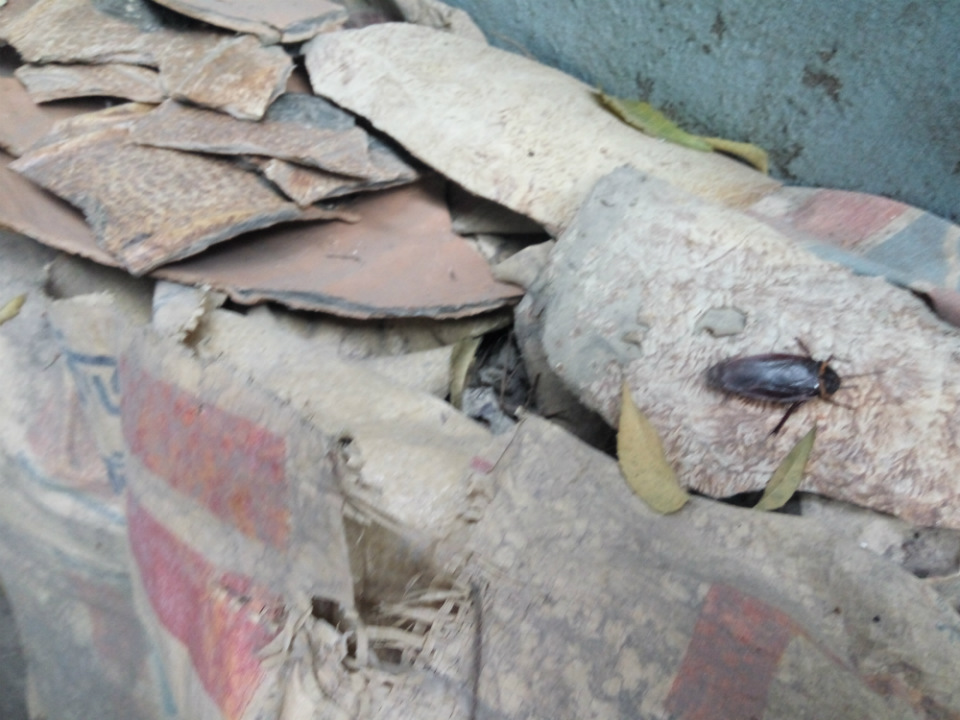cockroach: (692, 325, 883, 429)
